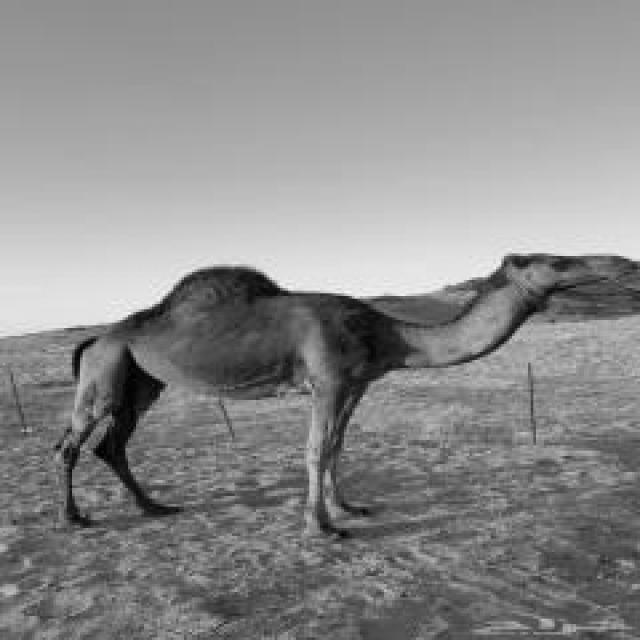Camel: (48, 251, 637, 549)
